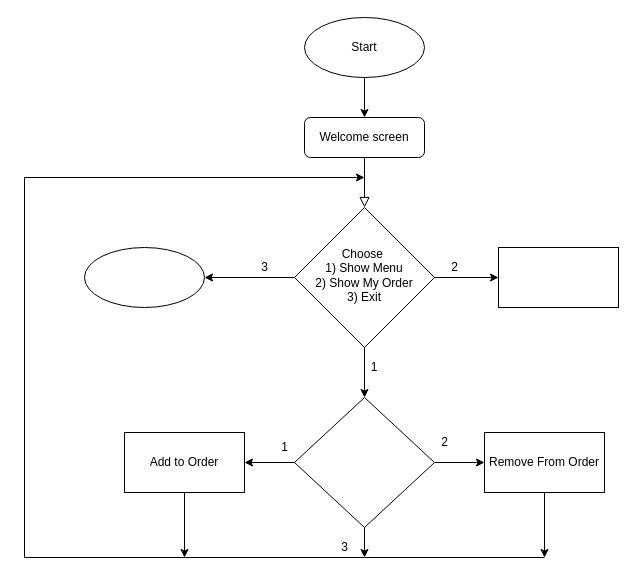
Image size: 636x583. Some labels were removed from this diagram. The shapes that lost their labels are listed below. From the top down, each one's centre as x and y in pixels, then its label:
At point 144,277: "Stop".
At point 558,277: "Order display".
At point 364,462: "Choose 1) Add to Order 2) Remove From Order 3) Exit".
